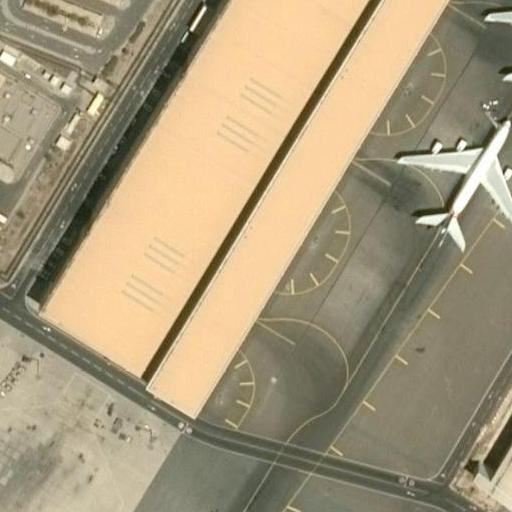Aircraft: (391, 117, 512, 251), (486, 0, 512, 105)
